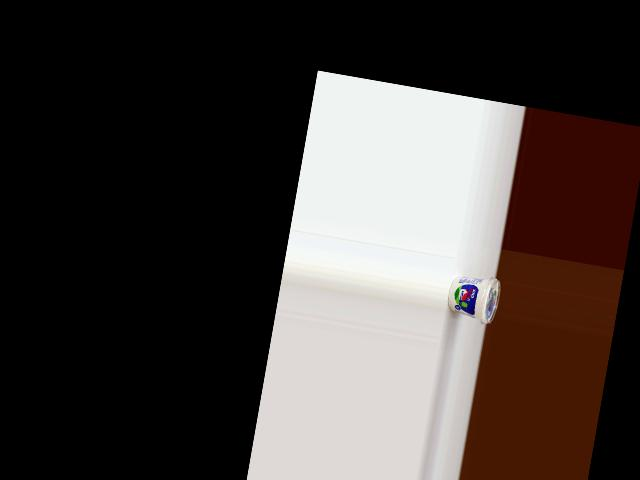cotage: (444, 269, 502, 325)
